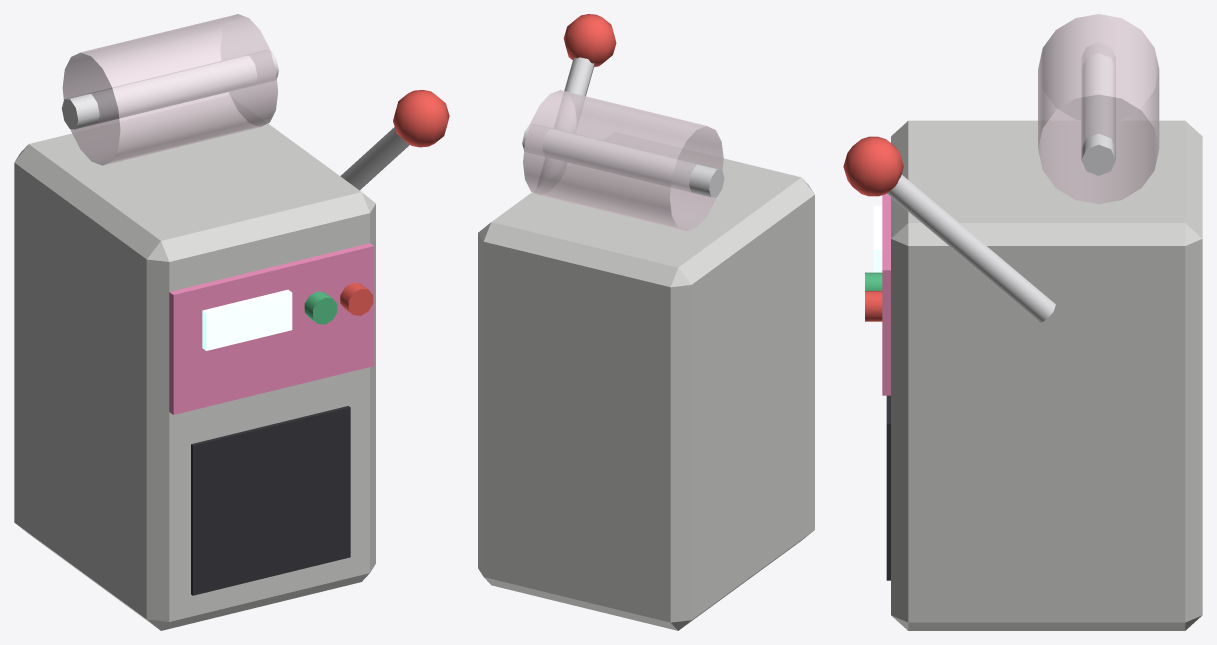
The model's file is SM_CupSealer.fbx.
3 views of the same model, side by side, from view 1: azimuth 30°, elevation 25°; view 2: azimuth 150°, elevation 25°; view 3: azimuth 270°, elevation 25° (orthographic). The views are drawn at different scales.
Visible parts, largest first — view 1: Sealer_Body, Sealer_Lever; view 2: Sealer_Body, Sealer_Lever; view 3: Sealer_Body, Sealer_Lever.
Part boxes in pixels (<box>): Sealer_Body: <box>14,14,375,630</box>; Sealer_Lever: <box>340,90,449,190</box>; Sealer_Body: <box>478,90,814,630</box>; Sealer_Lever: <box>537,14,616,187</box>; Sealer_Body: <box>865,14,1202,630</box>; Sealer_Lever: <box>843,136,1055,322</box>.
Size of the model in its own units: 0.3933 by 0.67 by 0.415.
